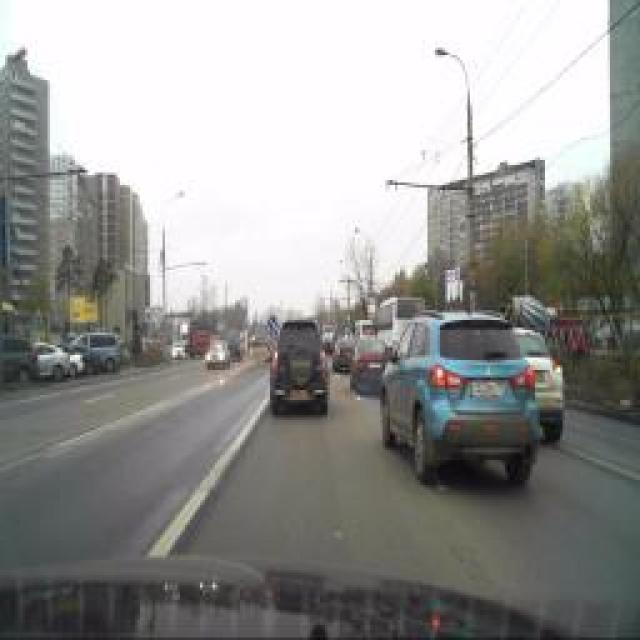sign: (269, 315, 276, 330)
